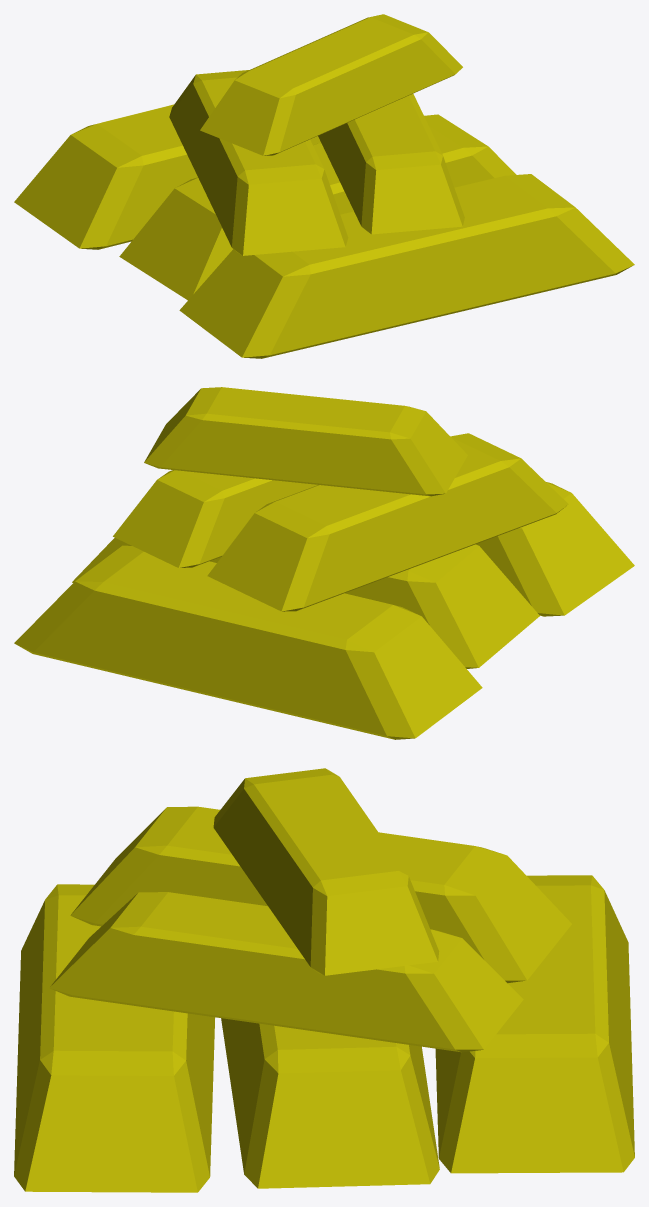
File: Gold.fbx
3 views of the same model, one above another, from view 1: azimuth 30°, elevation 25°; view 2: azimuth 150°, elevation 25°; view 3: azimuth 270°, elevation 25° (orthographic). The views are drawn at different scales.
Visible parts, largest first — view 1: Cube.002, Cube.005, Cube.003, Cube, Cube.004, Cube.001; view 2: Cube, Cube.003, Cube.005, Cube.001, Cube.004, Cube.002; view 3: Cube.002, Cube.004, Cube, Cube.001, Cube.005, Cube.003.
Boxes of the visible parts, x1,y1,x2,y2 form: Cube.002: [179, 174, 634, 358]; Cube.005: [200, 14, 462, 155]; Cube.003: [169, 70, 348, 255]; Cube: [14, 104, 320, 249]; Cube.004: [318, 94, 464, 234]; Cube.001: [119, 114, 516, 300]; Cube: [14, 545, 482, 739]; Cube.003: [207, 433, 568, 611]; Cube.005: [144, 387, 467, 496]; Cube.001: [72, 538, 539, 668]; Cube.004: [113, 470, 317, 567]; Cube.002: [476, 482, 634, 616]; Cube.002: [14, 884, 215, 1192]; Cube.004: [49, 892, 523, 1052]; Cube: [435, 875, 634, 1173]; Cube.001: [221, 1018, 439, 1188]; Cube.005: [213, 768, 439, 975]; Cube.003: [70, 806, 571, 983].
Size of the model in its own units: 143 by 61.47 by 141.
